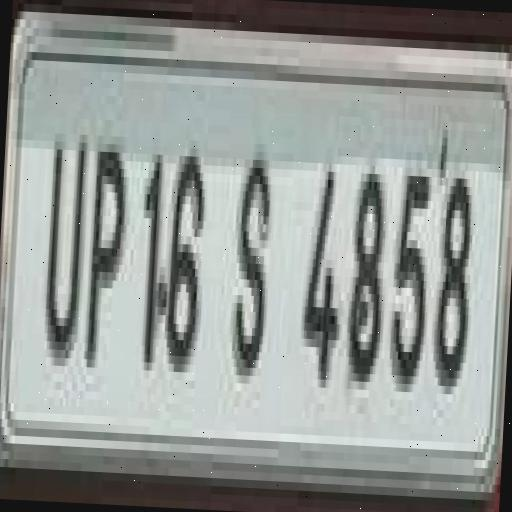number plate: (0, 51, 497, 492)
